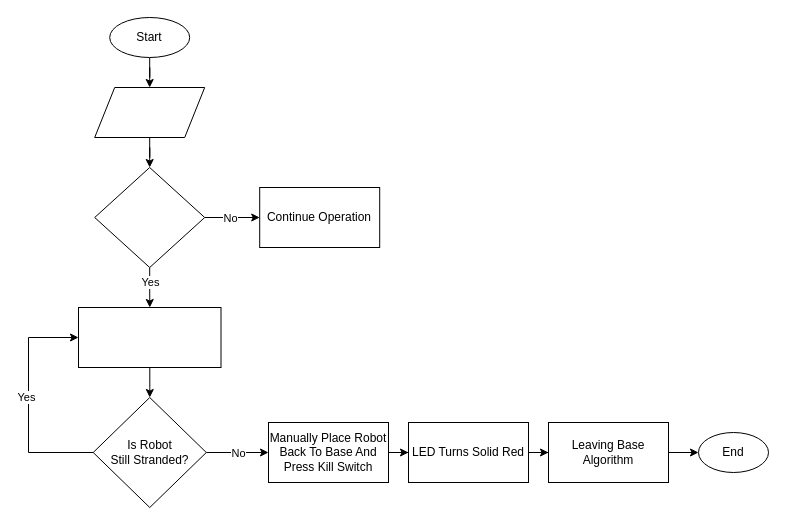
Some shapes in this 786 by 525 pixel diagram are drawn without their labels. The shapes that lost their labels are listed below. From the top down, each one's centre as x and y in pixels, then its label:
At (149,112): "Read Kill Switch Pin".
At (149,217): "Is Kill Switch Activated?".
At (149,337): "Disable Motor Operation and LED Flashes Red".
